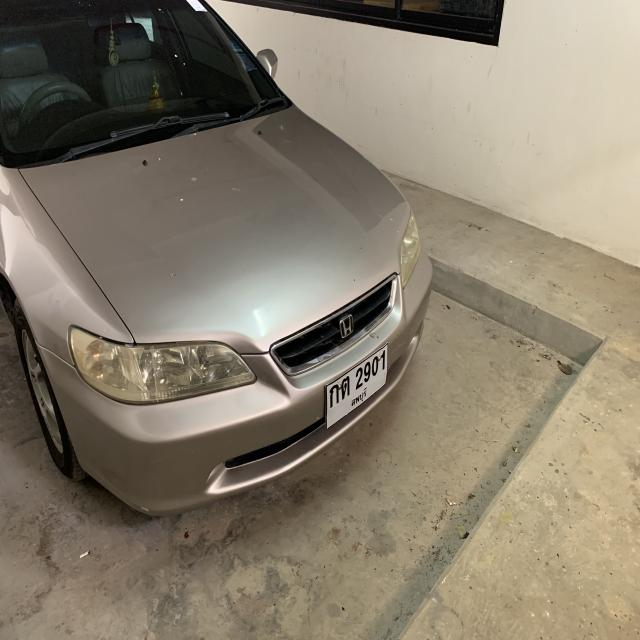license_plate: (324, 342, 390, 436)
